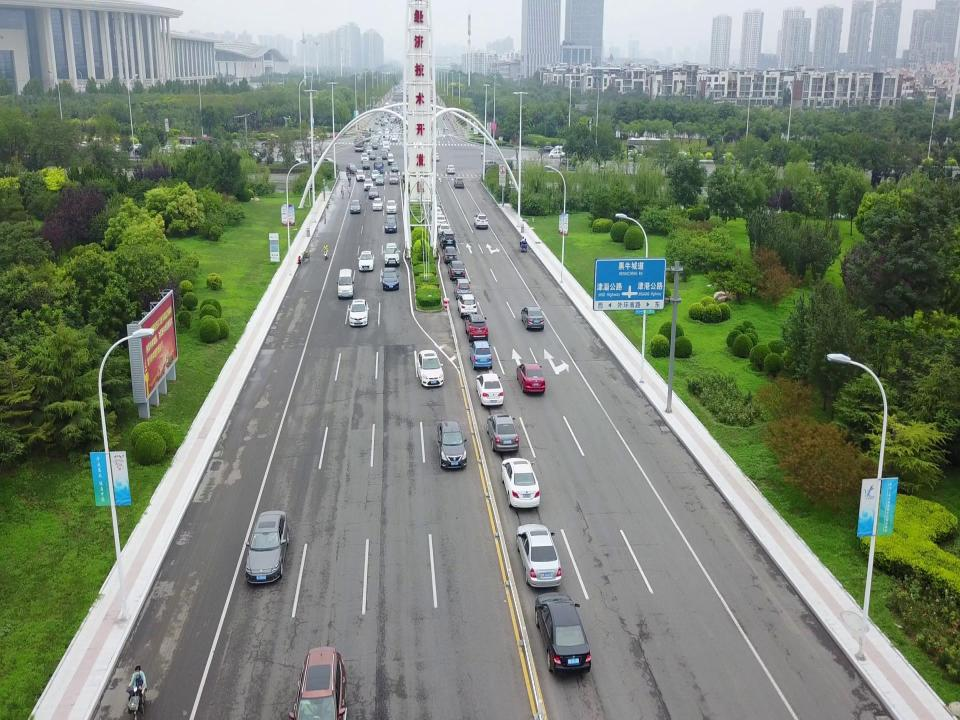car: (534, 590, 592, 675), (286, 642, 349, 720), (243, 508, 291, 584), (515, 522, 562, 587), (500, 457, 541, 511), (435, 418, 469, 472), (485, 414, 519, 454), (514, 361, 548, 397), (416, 349, 444, 388), (474, 373, 506, 407), (466, 341, 494, 370), (464, 313, 492, 342), (519, 304, 546, 331), (348, 298, 370, 327), (457, 292, 479, 317), (379, 266, 399, 292), (445, 260, 467, 281), (452, 277, 474, 297), (458, 263, 480, 283), (357, 250, 375, 272), (382, 242, 400, 264), (442, 245, 458, 266), (382, 213, 398, 233), (439, 231, 457, 248), (436, 222, 452, 241), (430, 202, 446, 221), (434, 213, 450, 231), (472, 213, 488, 230), (384, 200, 398, 213), (349, 199, 361, 214), (372, 198, 384, 211)
